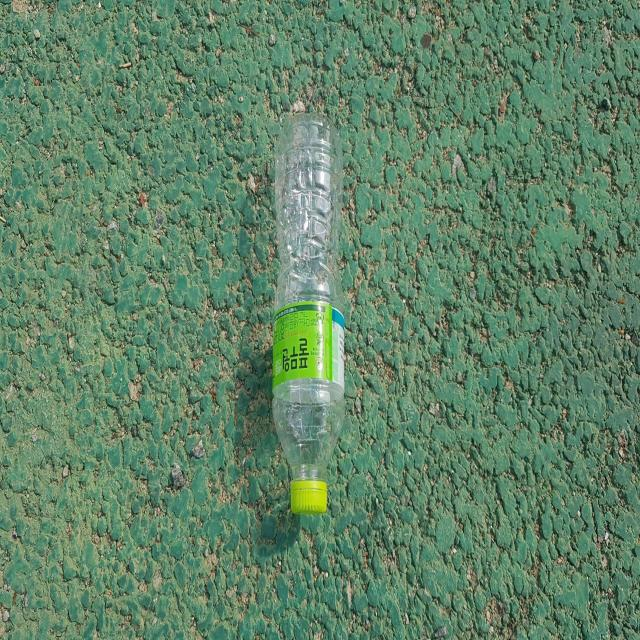plastic: (272, 113, 345, 514)
